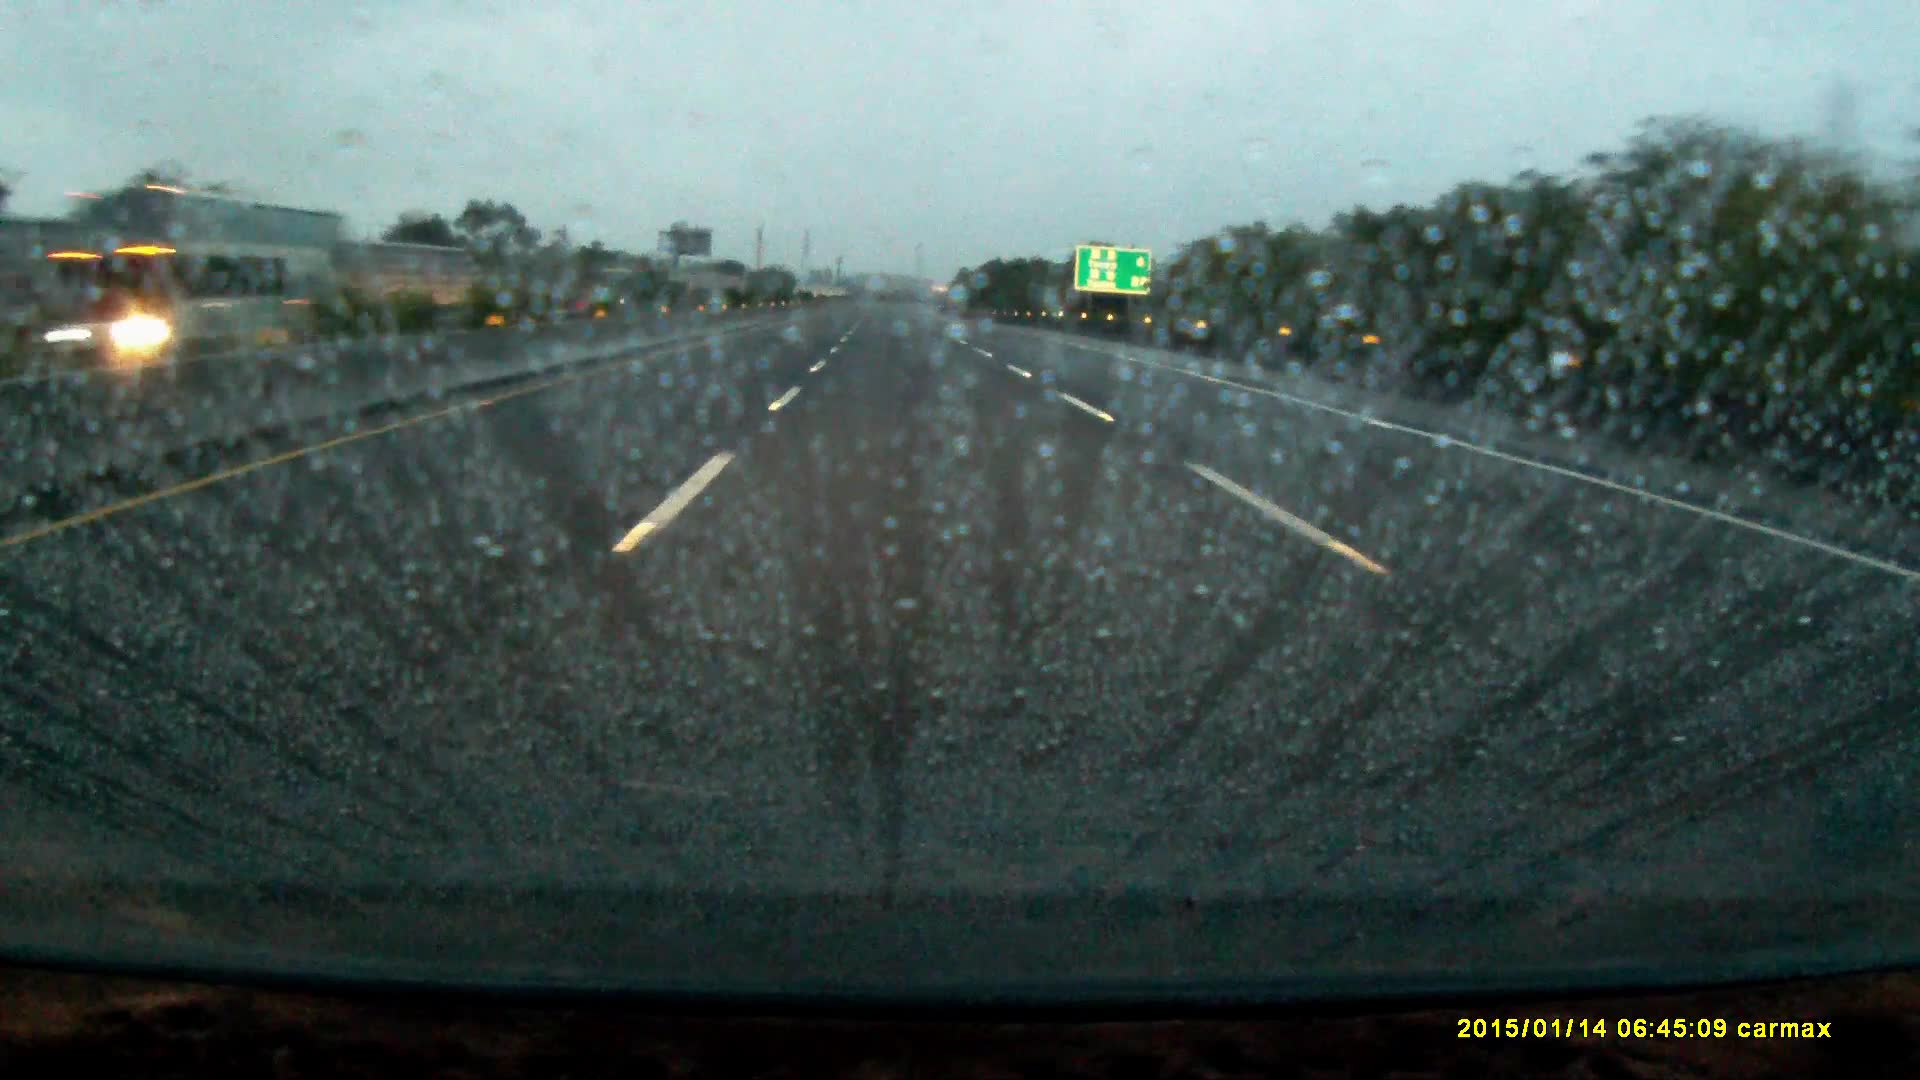vehicle: (41, 179, 303, 348), (595, 266, 665, 307)
